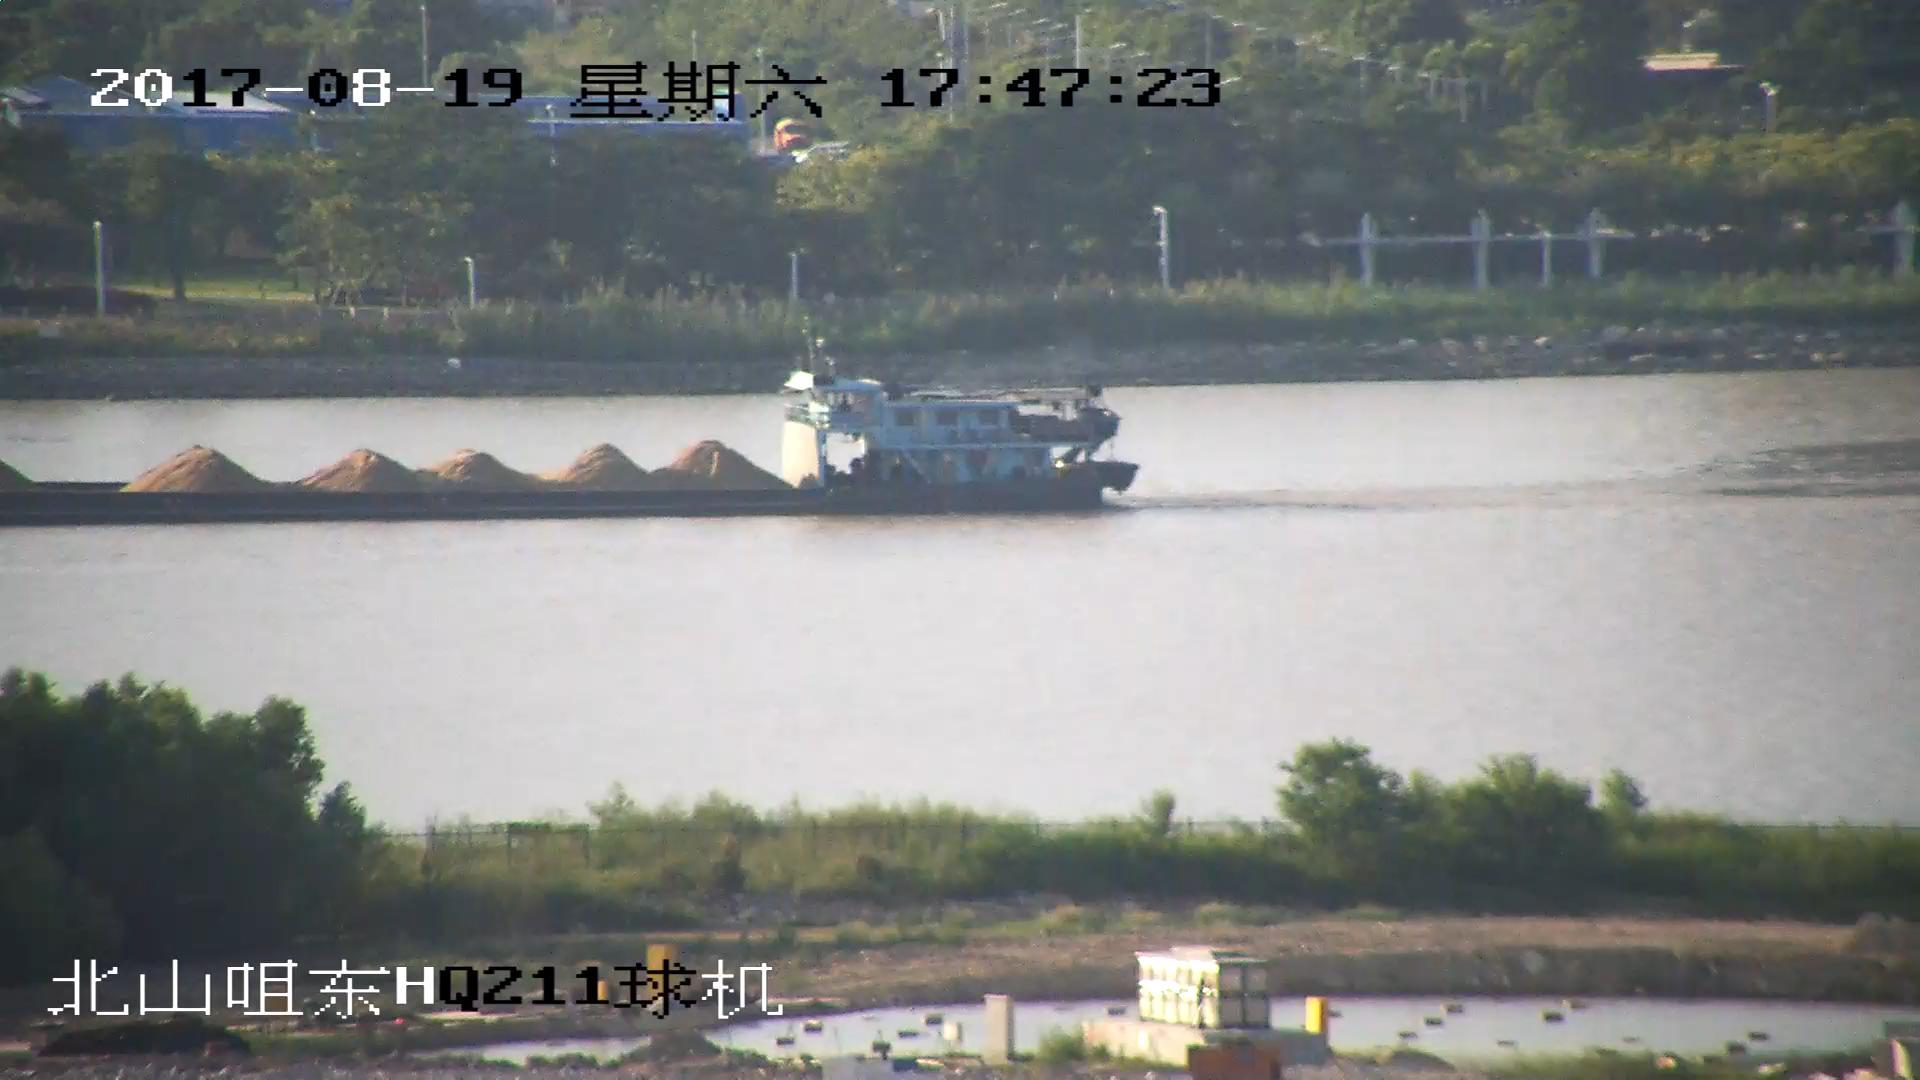Ship: (3, 330, 1139, 531)
